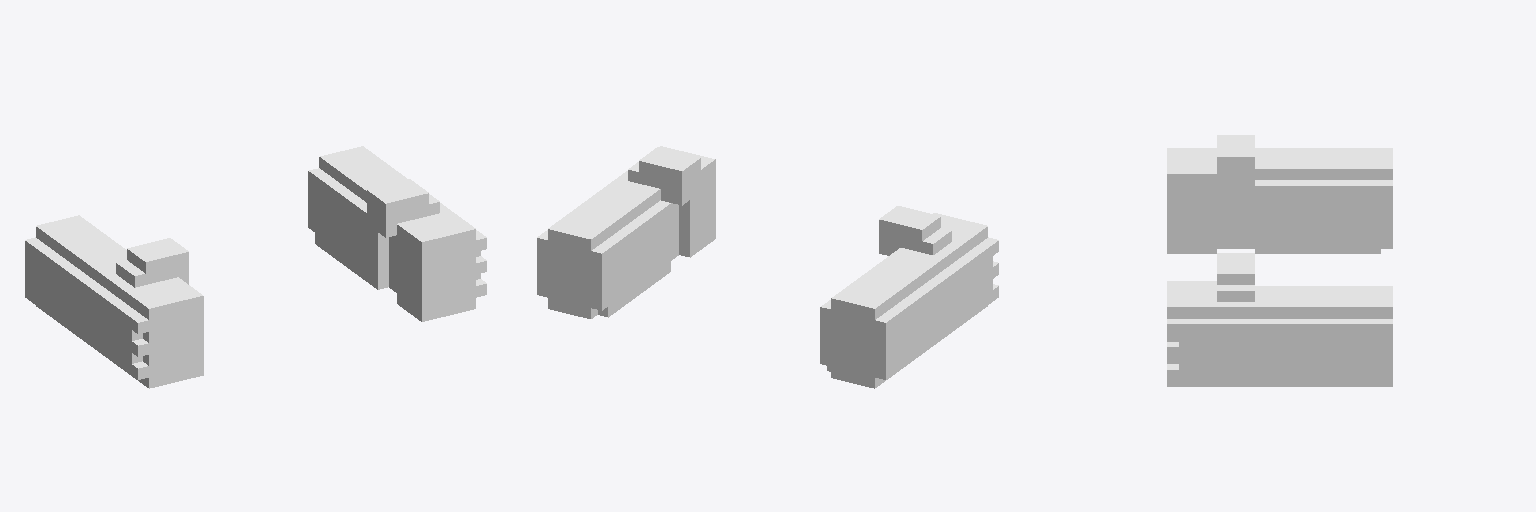
File: arms1.obj
3 renders of one model, left to right at view 1: azimuth 30°, elevation 25°; view 2: azimuth 150°, elevation 25°; view 3: azimuth 270°, elevation 25°, orthographic.
Parts seen in each view (by area): view 1: object 1; view 2: object 1; view 3: object 1.
Part boxes in pixels (x1,y1,x2,y2): object 1: (25,146,486,388); object 1: (537,146,998,388); object 1: (1167,135,1392,386).
Size of the model in its own units: 3.2 by 0.9 by 1.8.